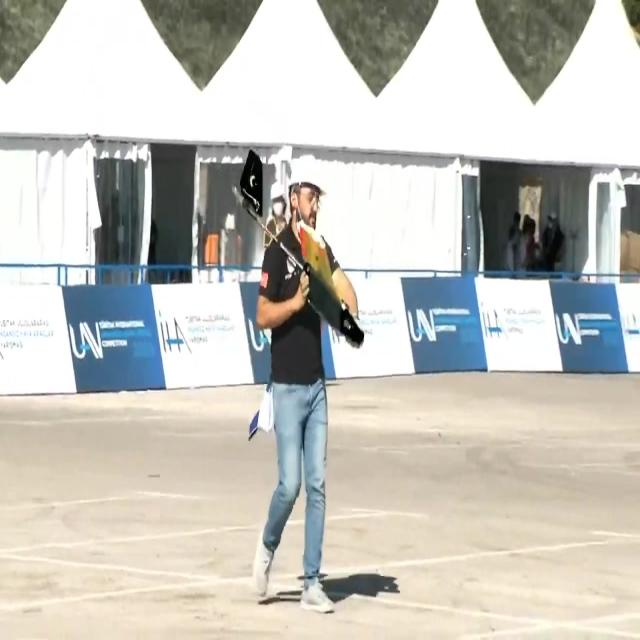iha: (234, 147, 363, 352)
